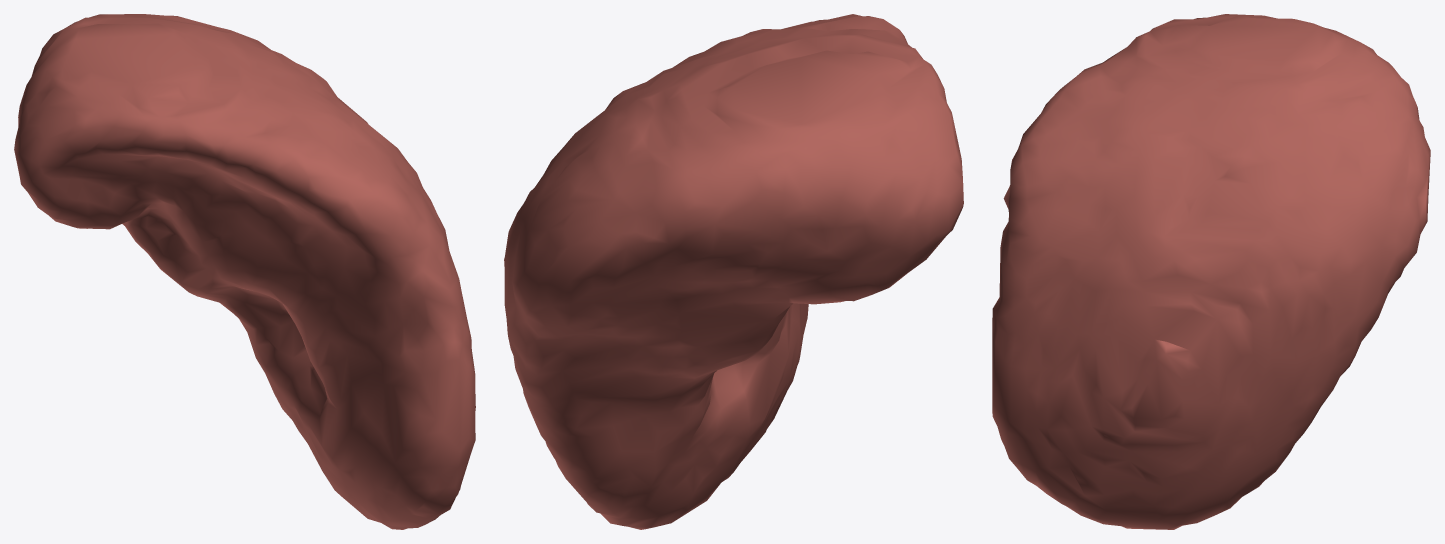
Rendered from tsd_s0327_older_adult_male.lymphatic.LOD4.glb.
3 renders of one model, left to right at view 1: azimuth 30°, elevation 25°; view 2: azimuth 150°, elevation 25°; view 3: azimuth 270°, elevation 25°, orthographic. The views are drawn at different scales.
Parts seen in each view (by area): view 1: TSD_S0327.OLDER_ADULT.MALE.LYMPHATIC.SPLEEN; view 2: TSD_S0327.OLDER_ADULT.MALE.LYMPHATIC.SPLEEN; view 3: TSD_S0327.OLDER_ADULT.MALE.LYMPHATIC.SPLEEN.
Part boxes in pixels (<box>): TSD_S0327.OLDER_ADULT.MALE.LYMPHATIC.SPLEEN: <box>14,14,475,529</box>; TSD_S0327.OLDER_ADULT.MALE.LYMPHATIC.SPLEEN: <box>504,14,963,529</box>; TSD_S0327.OLDER_ADULT.MALE.LYMPHATIC.SPLEEN: <box>992,14,1430,529</box>.
Bounding box in the file's own units: 0.0791 × 0.0945 × 0.0916.
